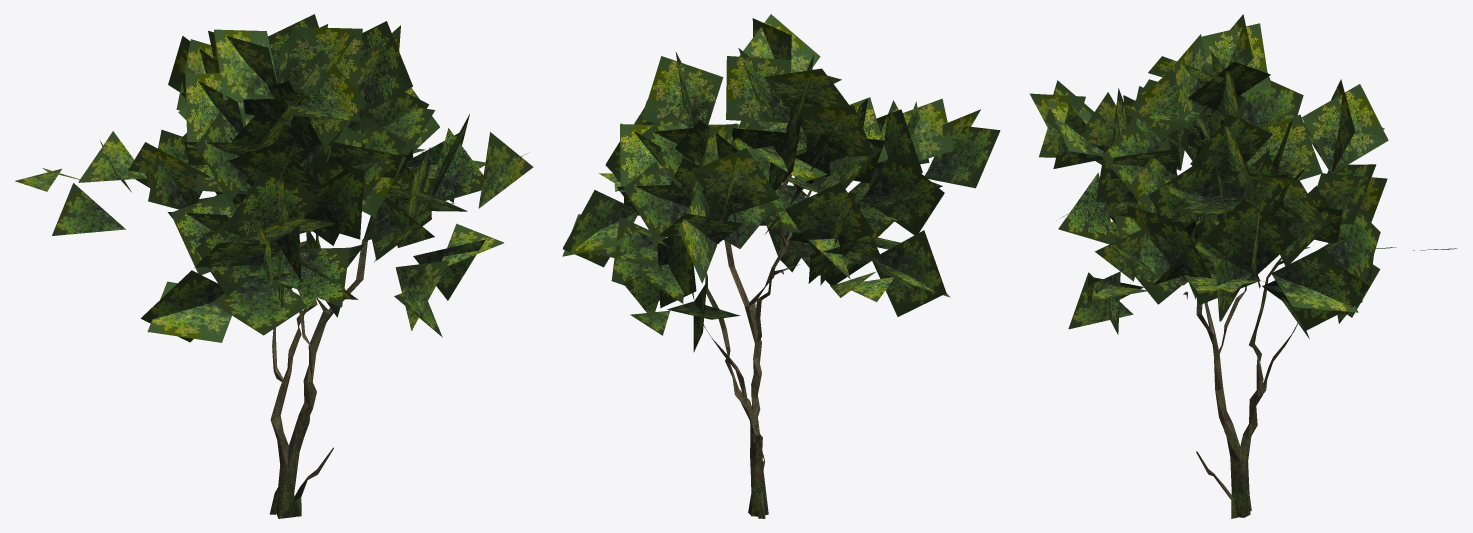
The model's file is d_sd_shu03b_zw.FBX.
3 views of the same model, side by side, from view 1: azimuth 30°, elevation 25°; view 2: azimuth 150°, elevation 25°; view 3: azimuth 270°, elevation 25° (orthographic). The views are drawn at different scales.
Visible parts, largest first — view 1: d_sd_shu03b_zw_B02, d_sd_shu03b_zw_A; view 2: d_sd_shu03b_zw_B02, d_sd_shu03b_zw_A; view 3: d_sd_shu03b_zw_B02, d_sd_shu03b_zw_A.
Boxes of the visible parts, x1,y1,x2,y2 form: d_sd_shu03b_zw_B02: (15,14,533,342); d_sd_shu03b_zw_A: (269,181,454,518); d_sd_shu03b_zw_B02: (562,14,1000,352); d_sd_shu03b_zw_A: (692,174,811,518); d_sd_shu03b_zw_B02: (1030,14,1457,339); d_sd_shu03b_zw_A: (1157,247,1309,518).
Bounding box in the file's own units: 496 × 619 × 508.
